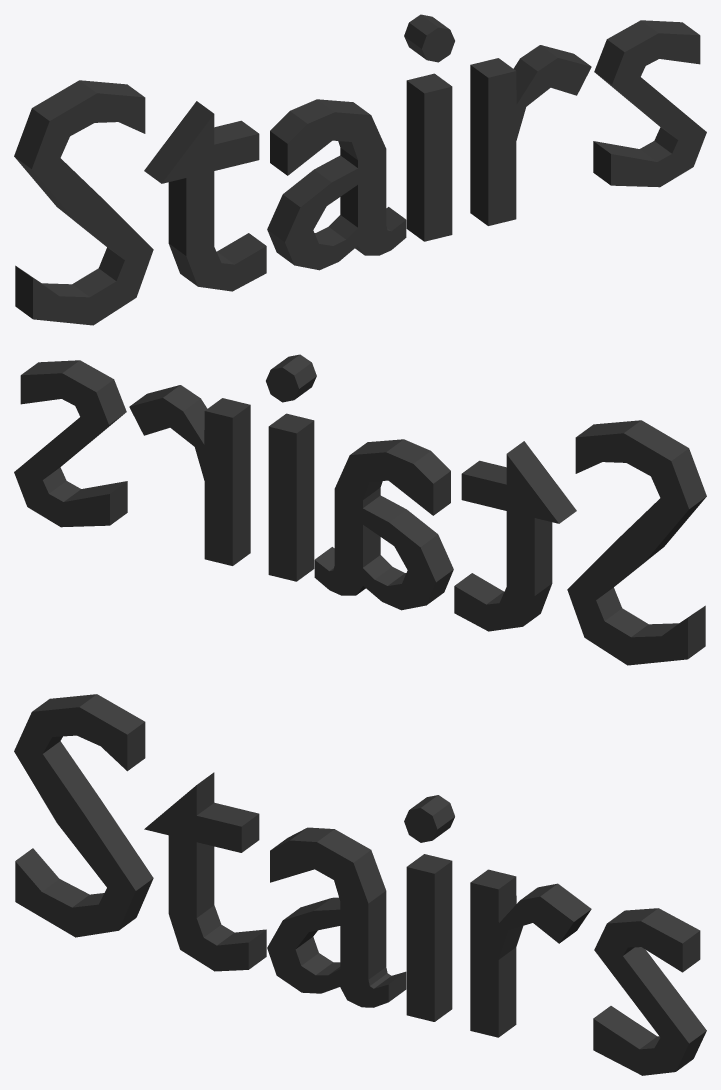
File: H_Text_Stairs.fbx
3 views of the same model, one above another, from view 1: azimuth 30°, elevation 25°; view 2: azimuth 150°, elevation 25°; view 3: azimuth 330°, elevation 25° (orthographic).
Parts seen in each view (by area): view 1: H_Text_Stairs; view 2: H_Text_Stairs; view 3: H_Text_Stairs.
Part boxes in pixels (box(x1,y1,x2,y2)): H_Text_Stairs: box(14, 14, 706, 325); H_Text_Stairs: box(14, 354, 706, 665); H_Text_Stairs: box(14, 694, 706, 1075).
Size of the model in its own units: 238 by 10.85 by 77.88.
